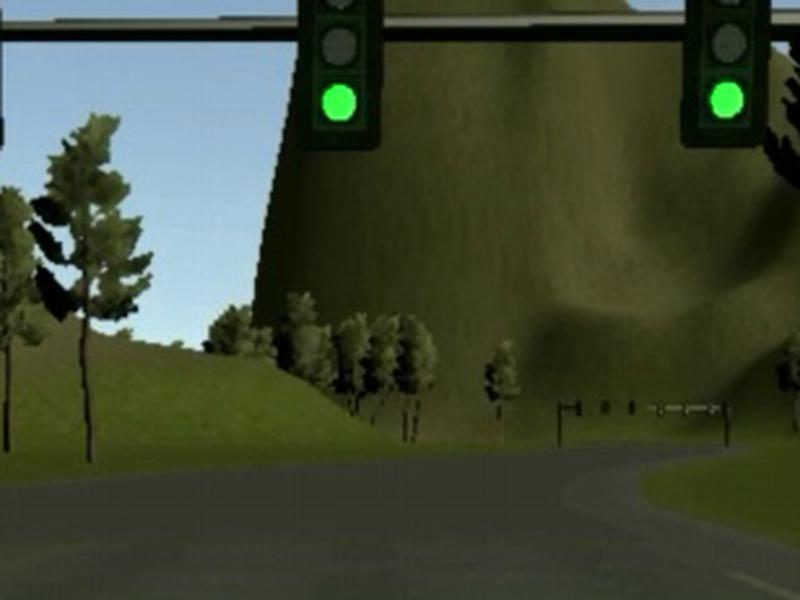Green: (680, 1, 772, 147), (296, 1, 385, 151)
